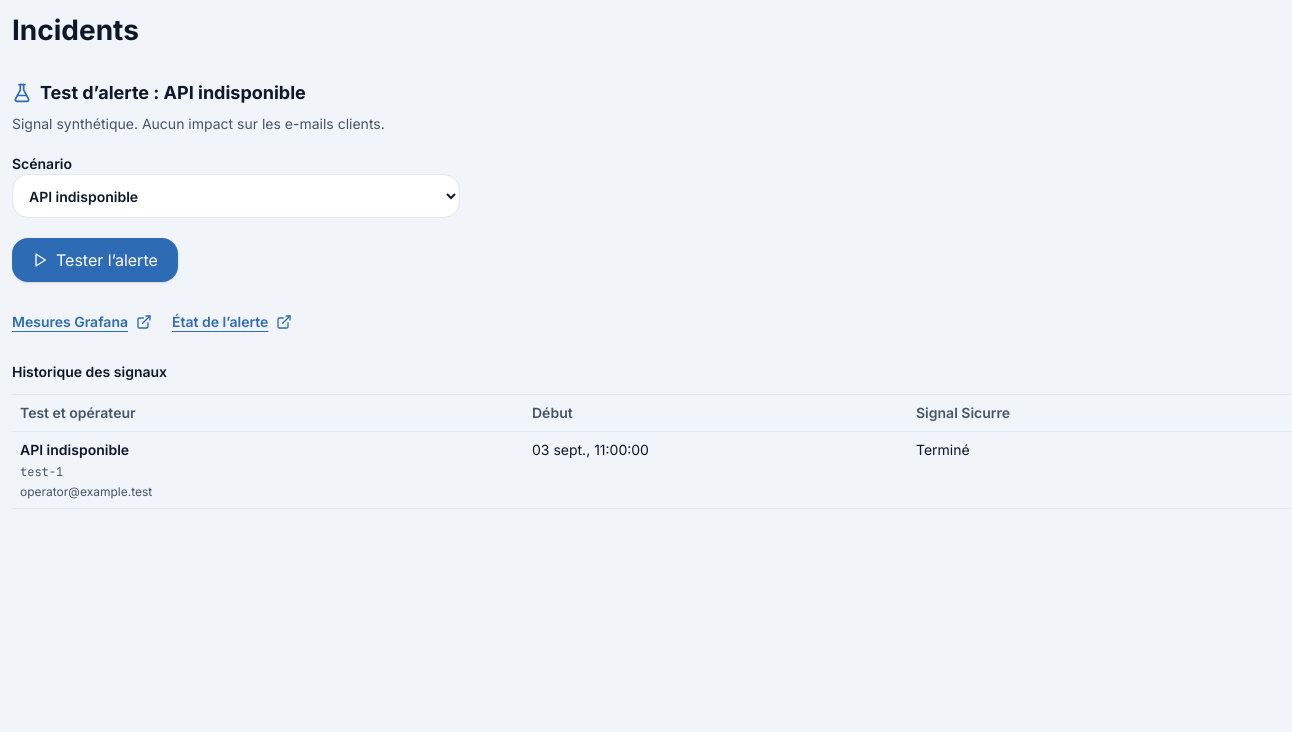
Test: admin operational exercises › labels mixed history and selects the matching evidence time window
The image size is (1292, 732).
Check: the table shows "API indisponible", box [20, 441, 129, 458]
Check: the table does not show "Erreurs serveur élevées", box [12, 362, 1291, 509]
Select "Latence élevée" in the dropdown at (236, 196), box [12, 174, 460, 218]
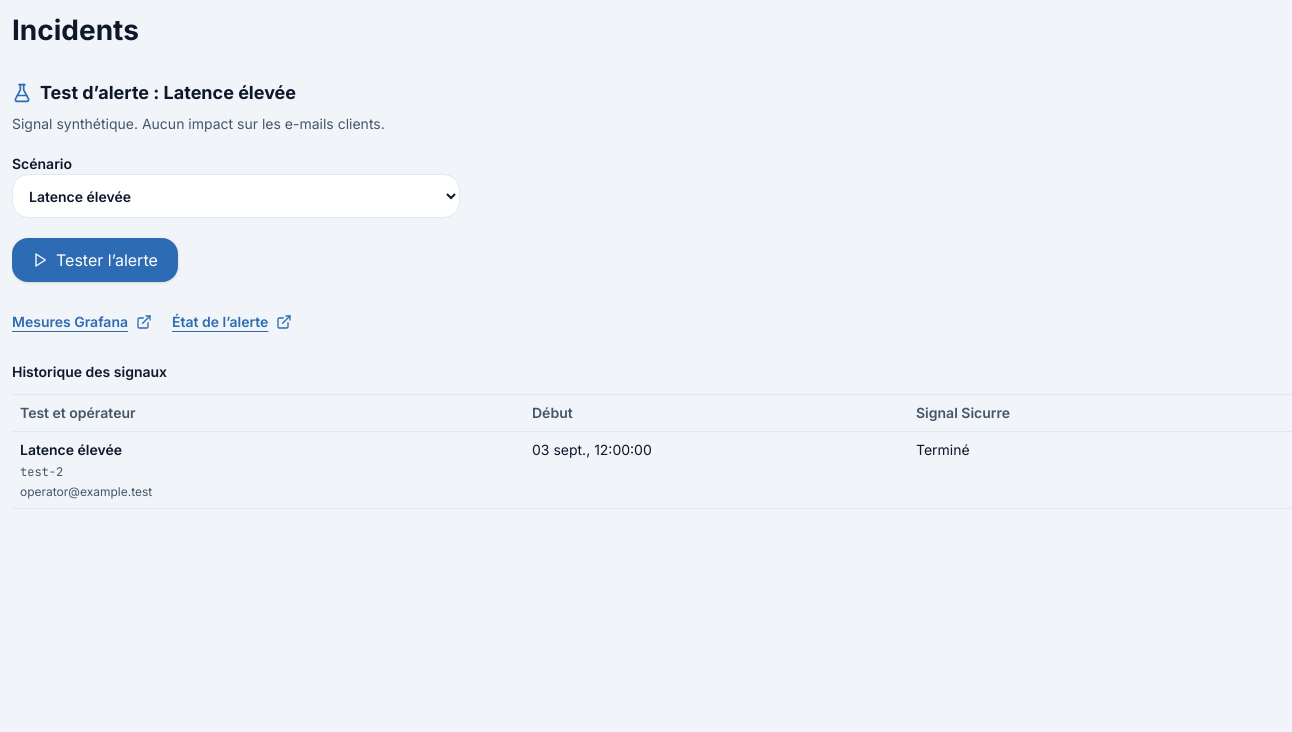
Check: the table shows "Latence élevée", box [20, 441, 122, 458]
Check: the table no longer shows "API indisponible", box [12, 362, 1291, 509]
